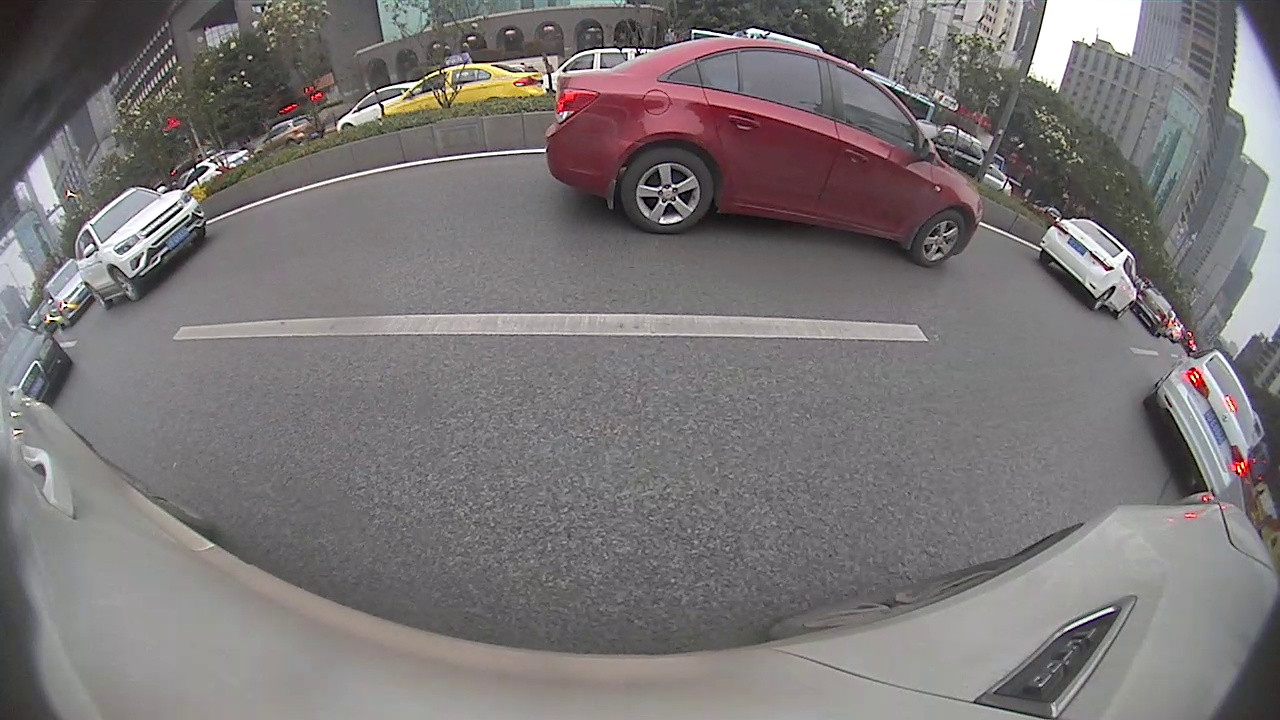car: (544, 37, 984, 269), (73, 185, 208, 310), (1143, 348, 1255, 497), (1038, 216, 1143, 319), (375, 55, 545, 116), (1, 324, 75, 406), (43, 259, 95, 321), (1133, 286, 1171, 337)
front: (914, 212, 965, 267), (110, 265, 142, 301)
rear: (620, 153, 713, 233)
